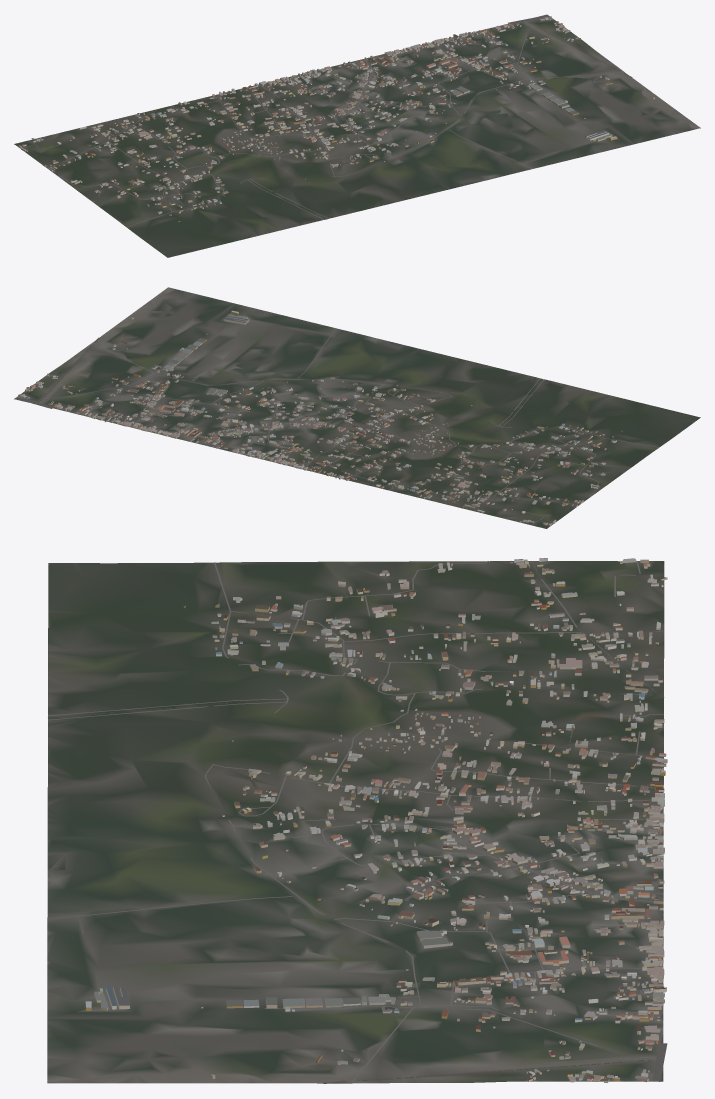
3 renders of one model, top to bottom at view 1: azimuth 30°, elevation 25°; view 2: azimuth 150°, elevation 25°; view 3: azimuth 270°, elevation 25°, orthographic. The views are drawn at different scales.
Visible parts, largest first — view 1: ground, buildings, roads; view 2: ground, buildings, roads; view 3: ground, buildings, roads, water.
Boxes of the visible parts, <box> form: ground: <box>14,14,700,257</box>; buildings: <box>18,16,654,221</box>; roads: <box>23,15,624,227</box>; ground: <box>14,287,700,528</box>; buildings: <box>18,310,622,525</box>; roads: <box>15,329,659,525</box>; ground: <box>47,561,664,1083</box>; buildings: <box>85,558,667,1082</box>; roads: <box>48,561,667,1083</box>; water: <box>48,700,650,1083</box>.
Bounding box in the file's own units: 2807 × 19.02 × 1411.
